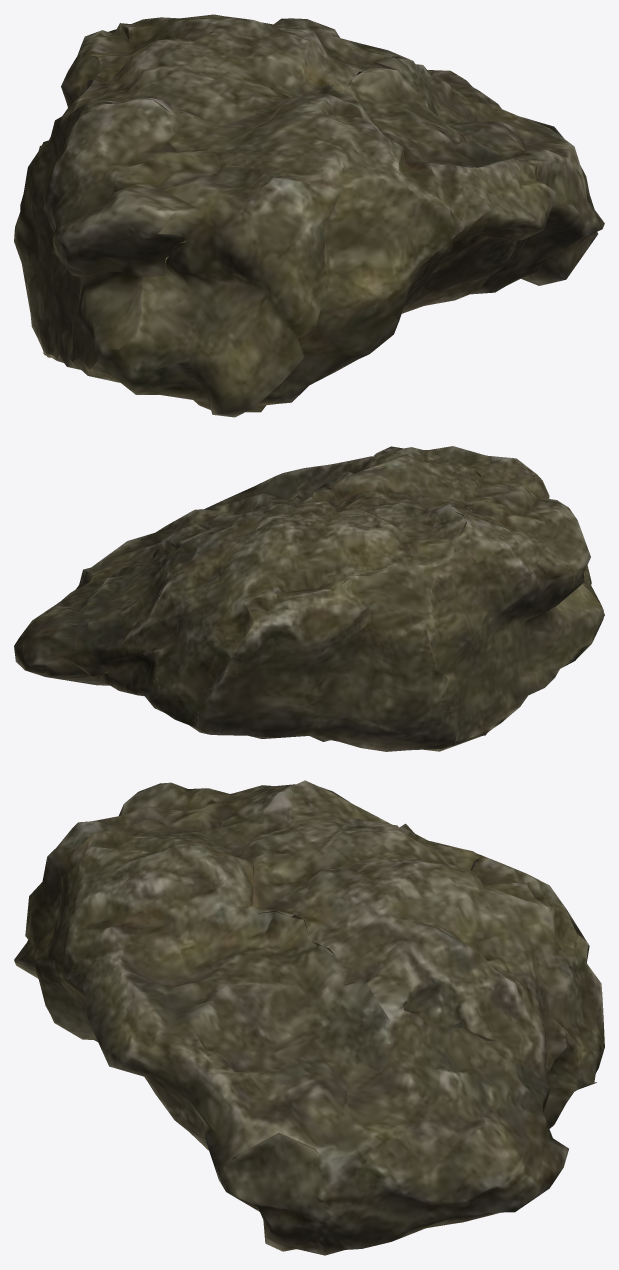
Rendered from rock_moss_set_02_4.glb.
The picture shows the model from 3 angles, top to bottom: view 1: azimuth 30°, elevation 25°; view 2: azimuth 150°, elevation 25°; view 3: azimuth 270°, elevation 25°; orthographic projection. The views are drawn at different scales.
Visible parts, largest first — view 1: rock_moss_set_02_rock12; view 2: rock_moss_set_02_rock12; view 3: rock_moss_set_02_rock12.
Boxes of the visible parts, box(x1,y1,x2,y2) form: rock_moss_set_02_rock12: box(14, 14, 604, 417); rock_moss_set_02_rock12: box(14, 446, 604, 751); rock_moss_set_02_rock12: box(14, 780, 604, 1255).
Size of the model in its own units: 1.58 by 0.7358 by 1.45.
Materials: 1 (1 with a texture image).
